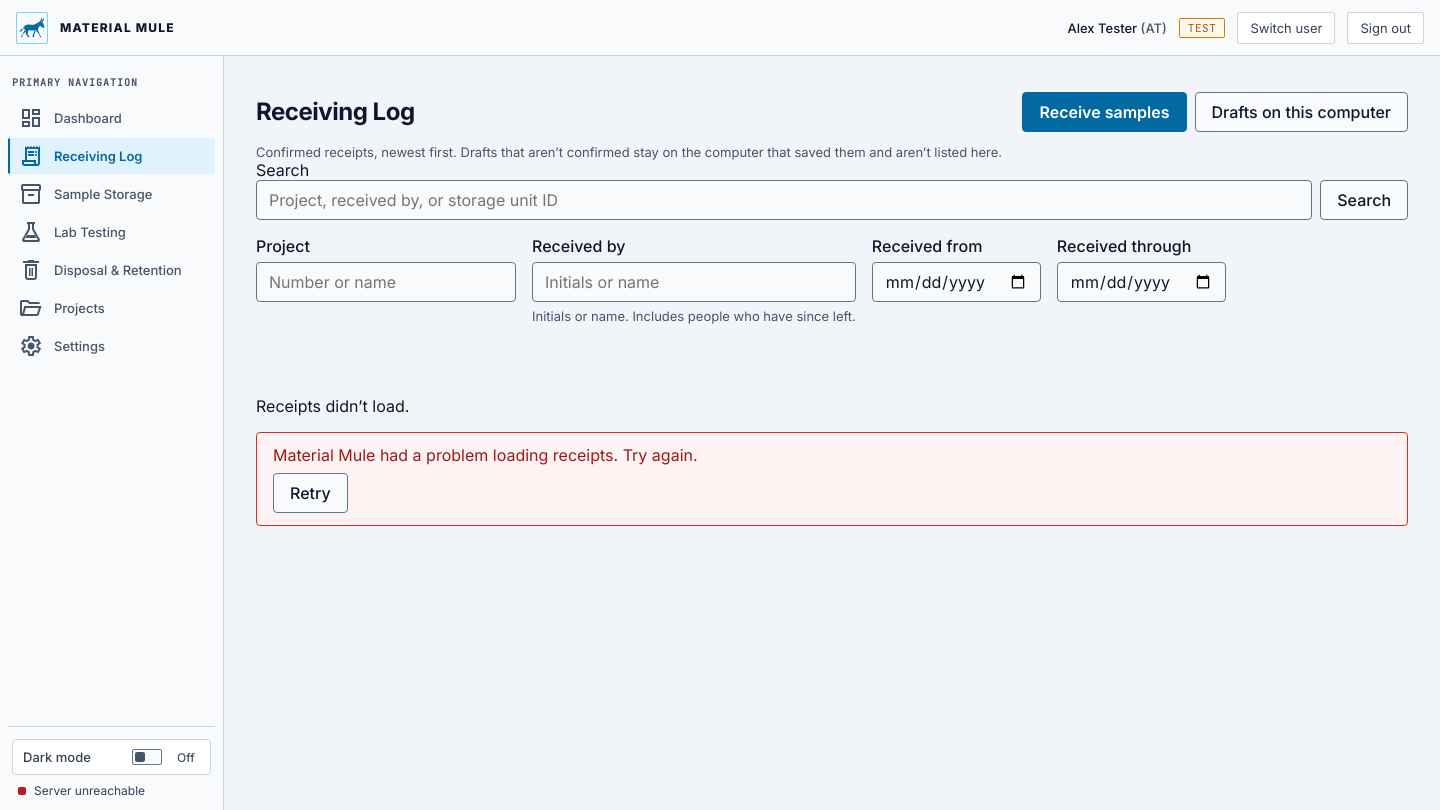
Scenario: Receiving Log list (MM-T51) › AC10: a server error shows Retry, never an empty history
Expected: the text "Material Mule had a problem loading receipts. Try again." is shown, [273, 445, 698, 465]
Click the button "Retry": (310, 493) [273, 473, 348, 513]
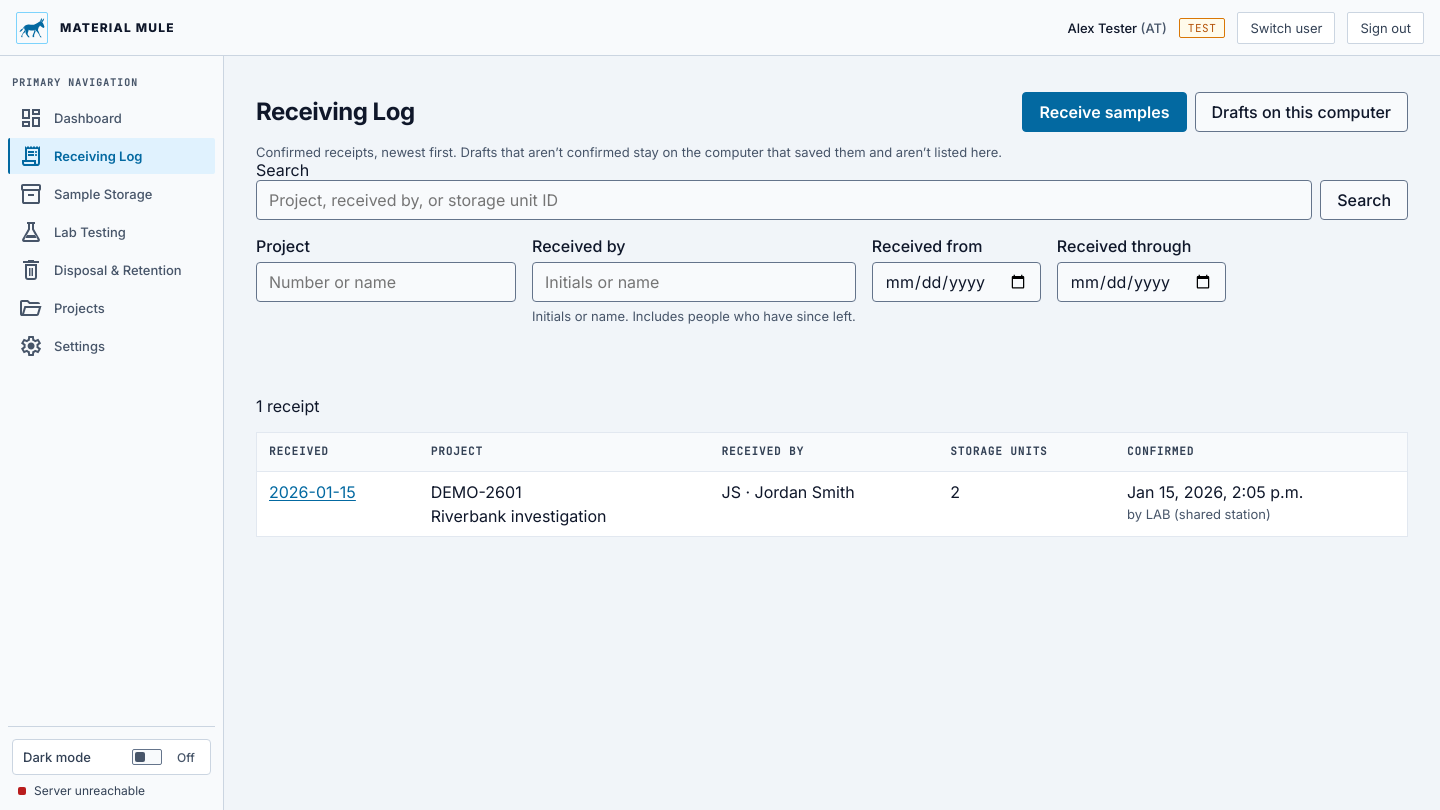
Now the text "1 receipt" is shown, box [256, 396, 320, 416]
